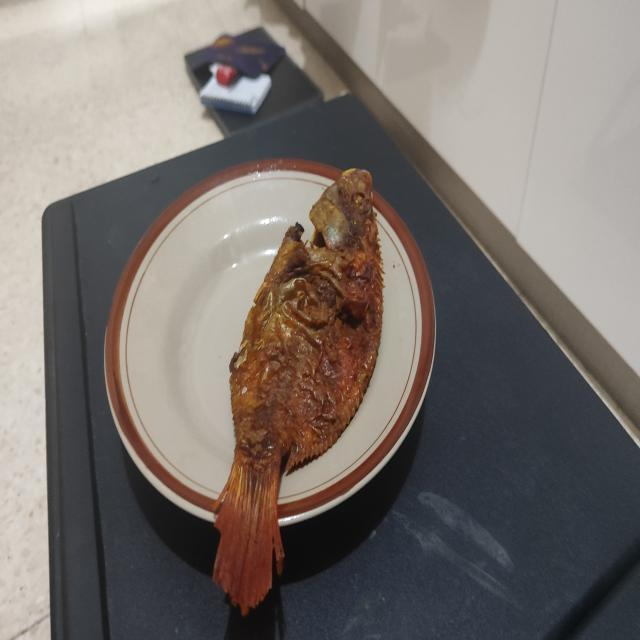ikan_mujair: (212, 168, 384, 614)
